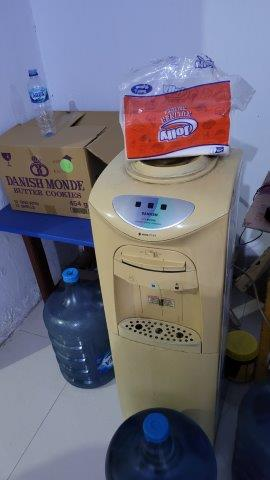botolplastik: (27, 70, 56, 135)
